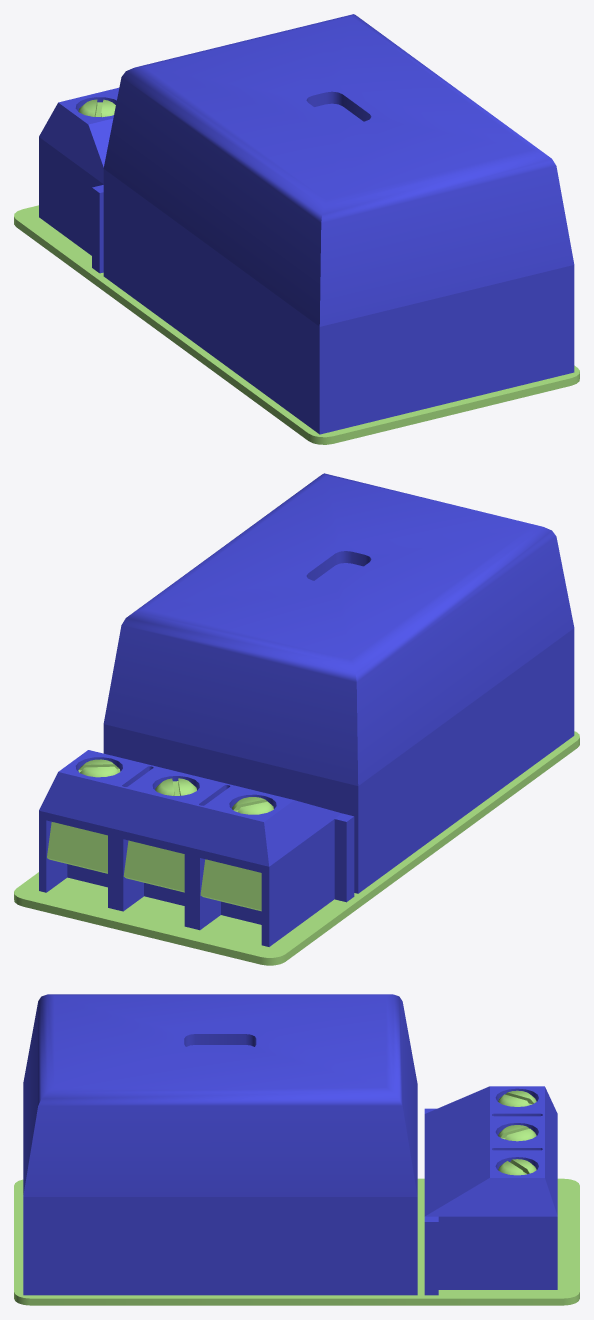
Rendered from relay.fbx.
3 renders of one model, top to bottom at view 1: azimuth 30°, elevation 25°; view 2: azimuth 150°, elevation 25°; view 3: azimuth 270°, elevation 25°, orthographic. The views are drawn at different scales.
Visible parts, largest first — view 1: Cube.009, Cube.010, Cube.011; view 2: Cube.009, Cube.010, Cube.011; view 3: Cube.009, Cube.010, Cube.011.
Boxes of the visible parts, x1,y1,x2,y2 form: Cube.009: (103,14,574,434); Cube.010: (39,87,119,273); Cube.011: (14,205,579,444); Cube.009: (103,473,574,893); Cube.010: (39,750,354,946); Cube.011: (14,731,579,965); Cube.009: (23,994,417,1295); Cube.010: (424,1086,557,1295); Cube.011: (14,1178,579,1305).
Size of the model in its own units: 470 by 373 by 938.
